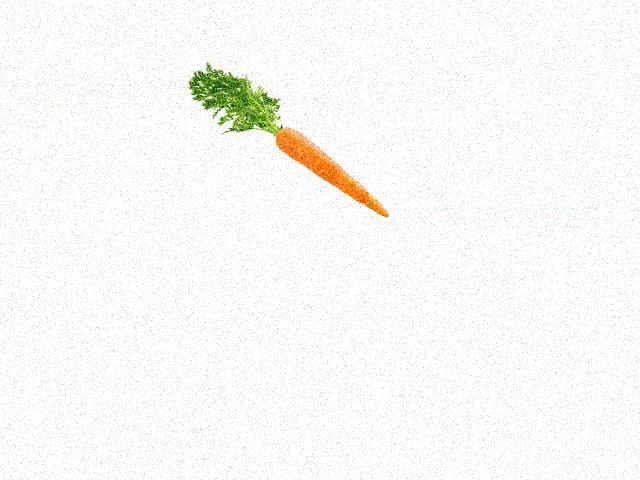carrot: (271, 125, 393, 220)
